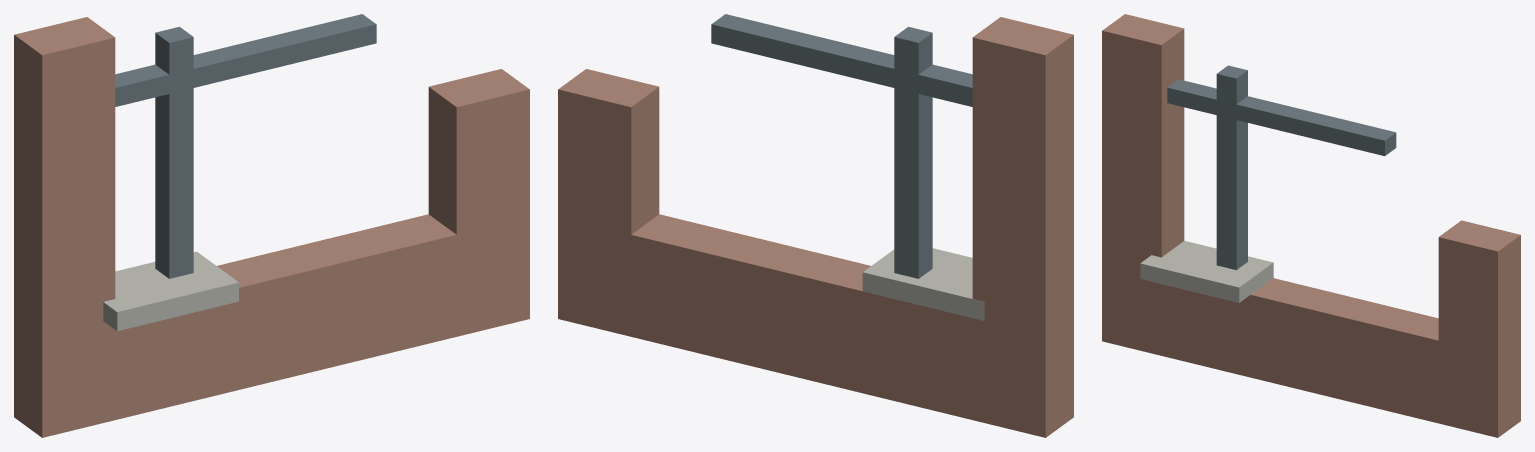
Rendered from three-d-zombie-quarantine-streets-zombie-quarantine-streets-collapsed-window-wall-35410d3f.glb.
The picture shows the model from 3 angles, left to right: view 1: azimuth 30°, elevation 25°; view 2: azimuth 150°, elevation 25°; view 3: azimuth 330°, elevation 25°; orthographic projection. The views are drawn at different scales.
Parts seen in each view (by area): view 1: collapsed-window-wall; view 2: collapsed-window-wall; view 3: collapsed-window-wall.
Part boxes in pixels (x1,y1,x2,y2): collapsed-window-wall: (14, 14, 529, 437); collapsed-window-wall: (558, 14, 1073, 437); collapsed-window-wall: (1102, 14, 1520, 437).
Bounding box in the file's own units: 4 × 3 × 0.6001.
